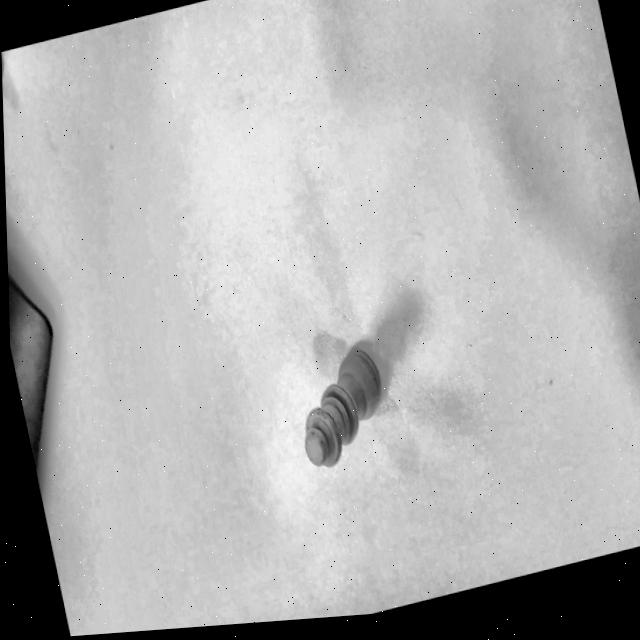white-queen: (245, 296, 438, 534)
